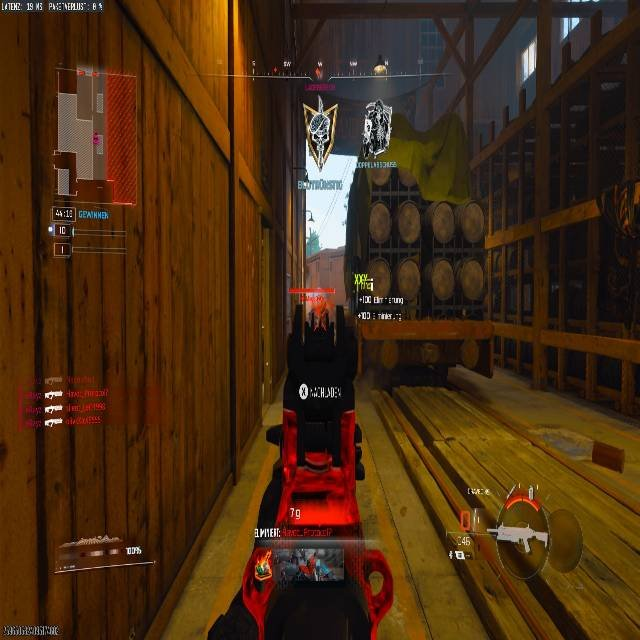player: (320, 300, 335, 337)
